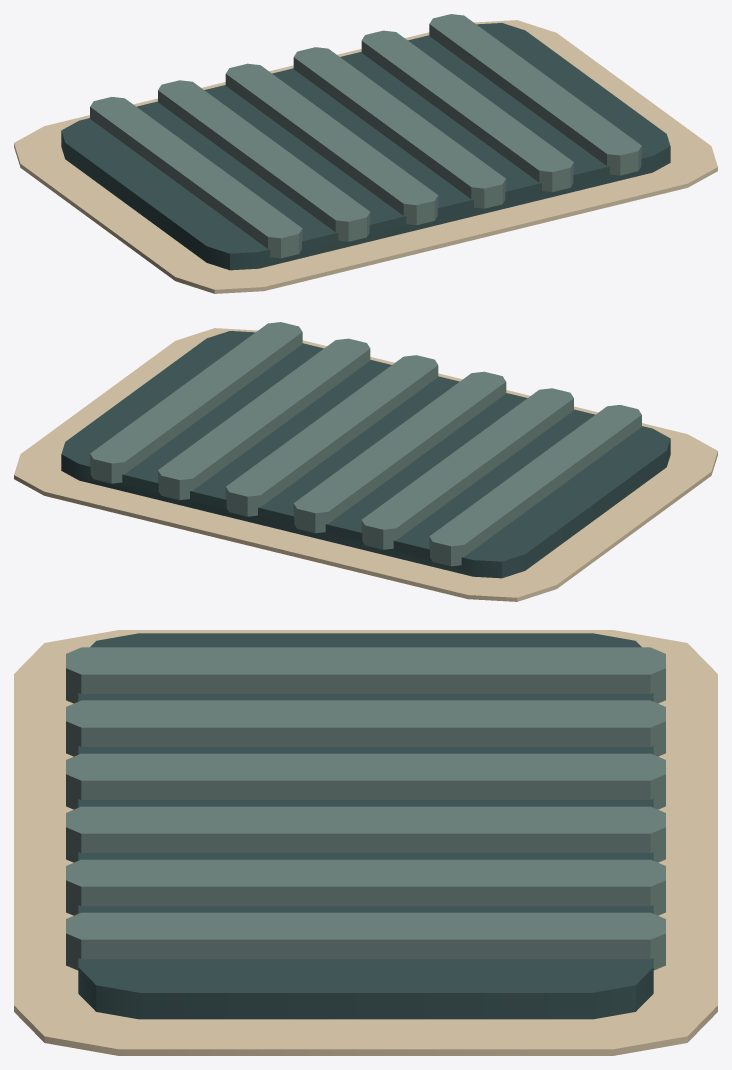
The model's file is floor-grate.glb.
3 renders of one model, top to bottom at view 1: azimuth 30°, elevation 25°; view 2: azimuth 150°, elevation 25°; view 3: azimuth 270°, elevation 25°, orthographic. The views are drawn at different scales.
Visible parts, largest first — view 1: floor-grate; view 2: floor-grate; view 3: floor-grate.
Boxes of the visible parts, x1,y1,x2,y2 form: floor-grate: (14,14,717,293); floor-grate: (14,322,717,601); floor-grate: (14,630,717,1055).
Size of the model in its own units: 1.62 by 0.095 by 1.15.
1 material, 1 textured.
